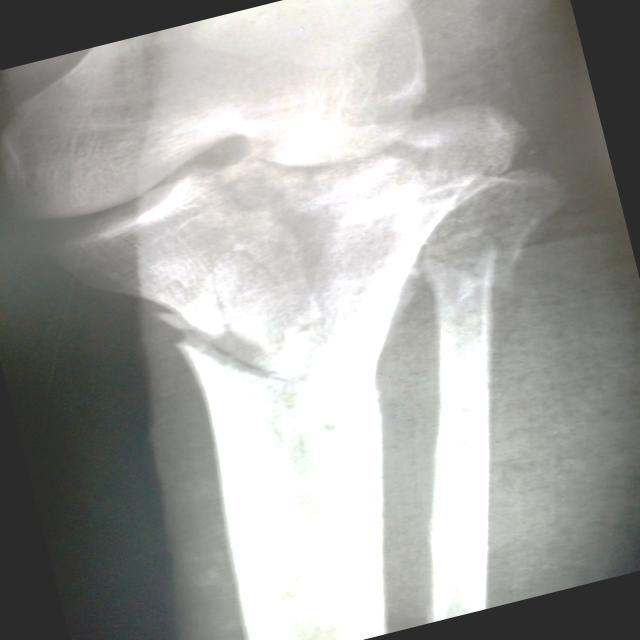Comminuted Fracture: (156, 304, 313, 411)
